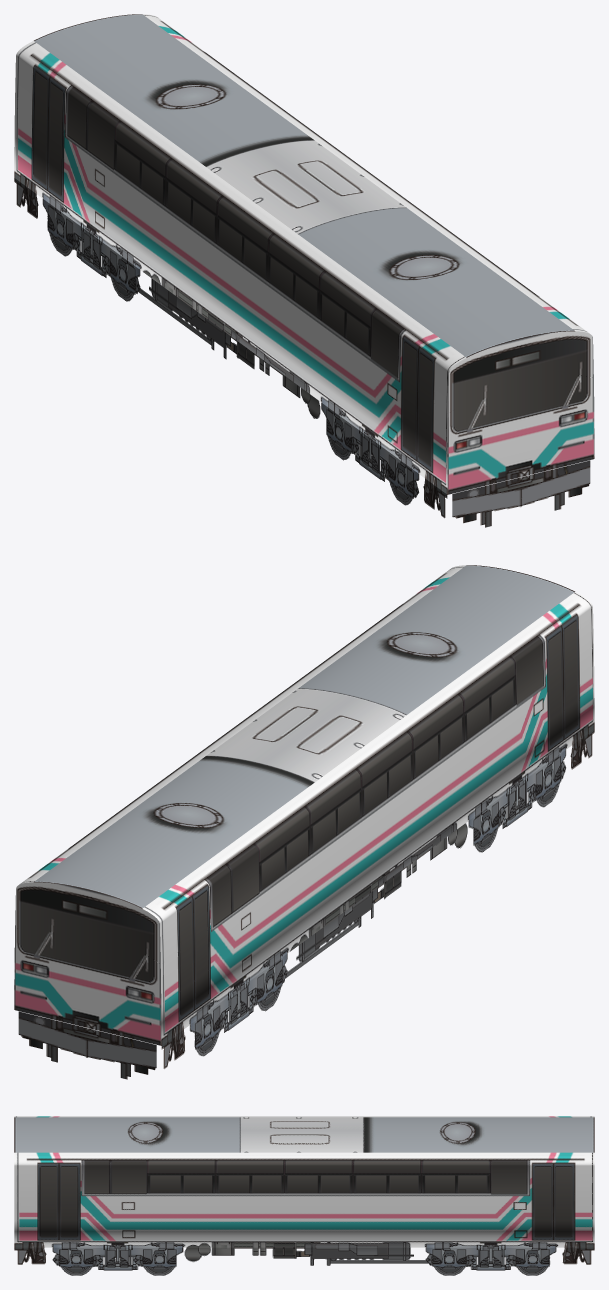
File: car1.glb
3 views of the same model, one above another, from view 1: azimuth 30°, elevation 25°; view 2: azimuth 150°, elevation 25°; view 3: azimuth 270°, elevation 25° (orthographic). The views are drawn at different scales.
Visible parts, largest first — view 1: amagi-ar100-car1; view 2: amagi-ar100-car1; view 3: amagi-ar100-car1.
Part boxes in pixels (bbox=[...]): amagi-ar100-car1: bbox=[14, 14, 594, 527]; amagi-ar100-car1: bbox=[14, 565, 594, 1079]; amagi-ar100-car1: bbox=[14, 1116, 594, 1275].
Size of the model in its own units: 3.04 by 3.55 by 15.53.
Materials: 8 (7 with a texture image).
